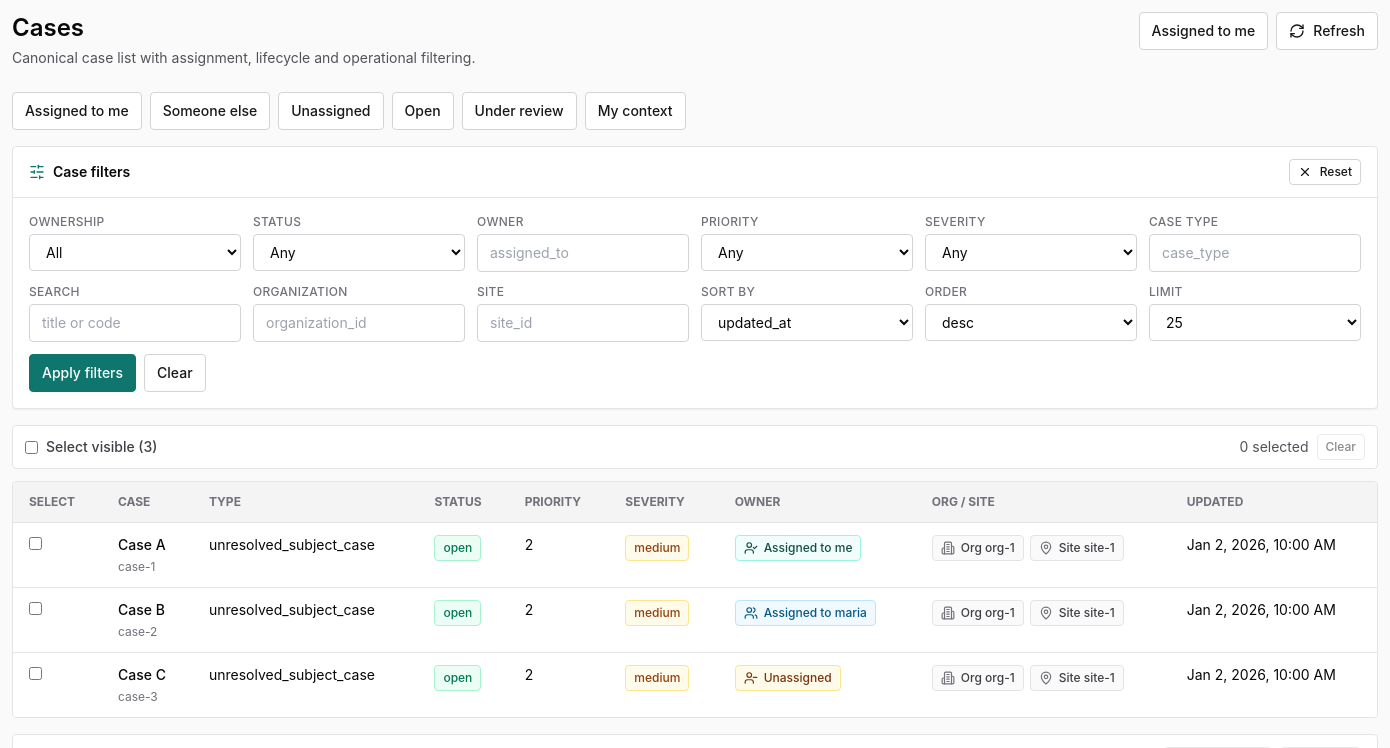
Test: CasesPage › renders a case list with ownership and persistent quick filters
This screenshot has width=1390, height=748.
Expected: the link "Case A" is shown, [118,536,166,553]
Expected: the button "Assigned to me" in the row of "Cases" is shown, [1139,12,1268,50]
Click the button "Someone else" at (210, 111), box [150,92,270,130]
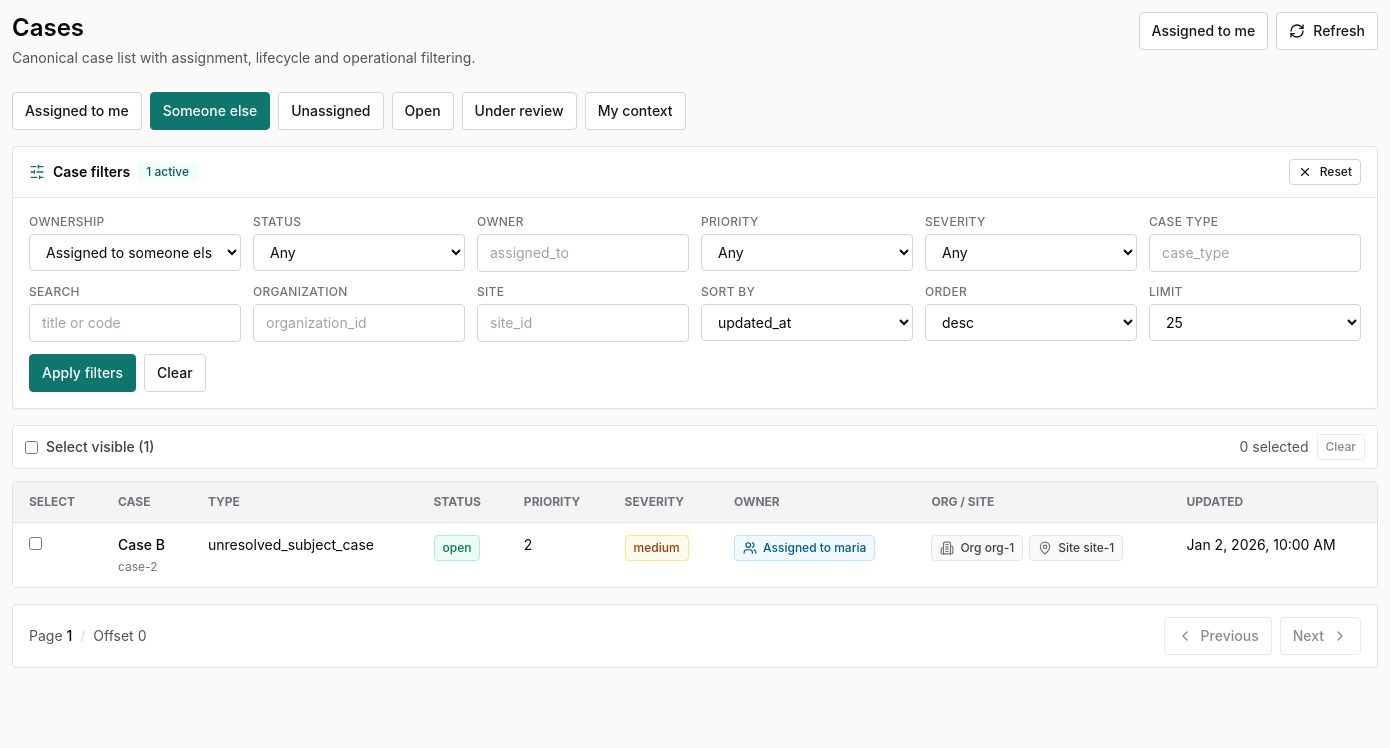
Expected: the link "Case B" is shown, [118,536,165,553]
Result: no links "Case A" are shown
Result: no links "Case C" are shown
